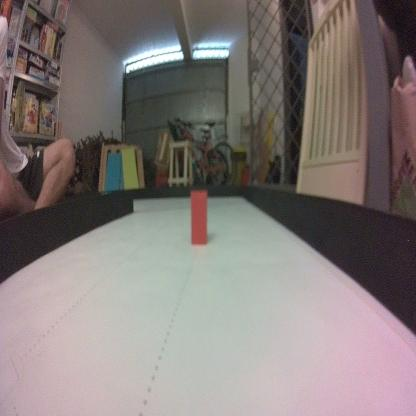red: (189, 188, 208, 246)
